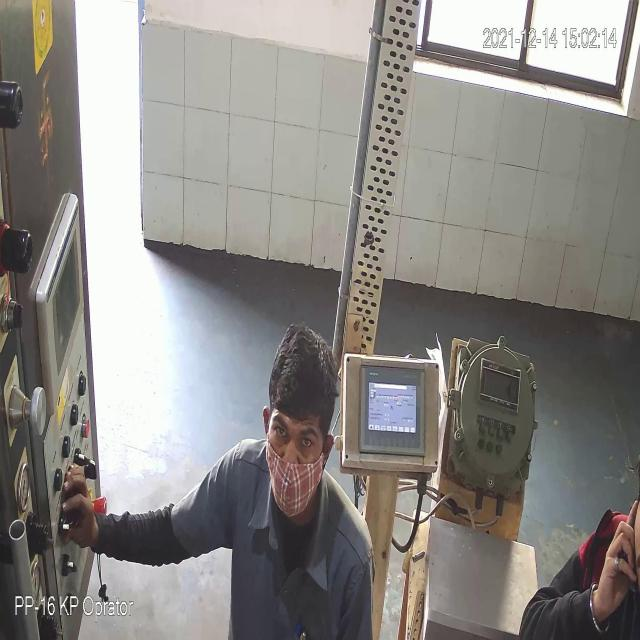No_Gloves: (36, 92, 614, 560)
